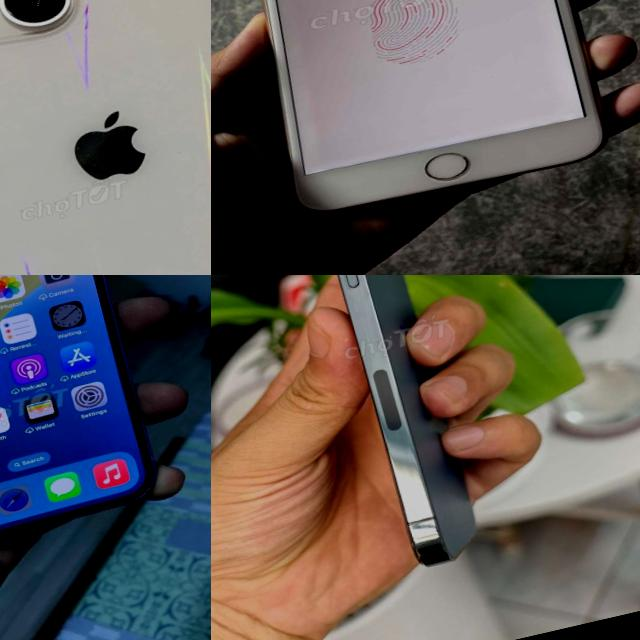gen_12_13: (289, 275, 501, 589), (0, 0, 211, 275), (0, 275, 174, 566)
gen_7_8: (225, 0, 636, 226)
